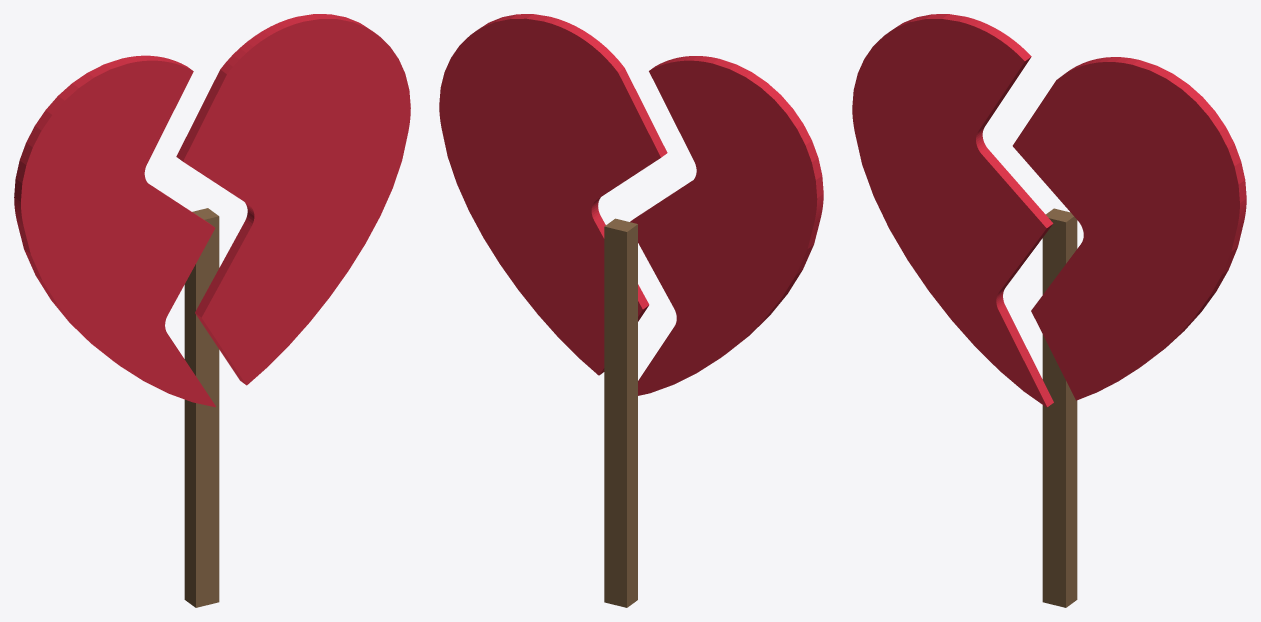
Rendered from coeur-brise.glb.
3 views of the same model, side by side, from view 1: azimuth 30°, elevation 25°; view 2: azimuth 150°, elevation 25°; view 3: azimuth 330°, elevation 25° (orthographic). The views are drawn at different scales.
Size of the model in its own units: 1 by 1.4 by 0.089.
